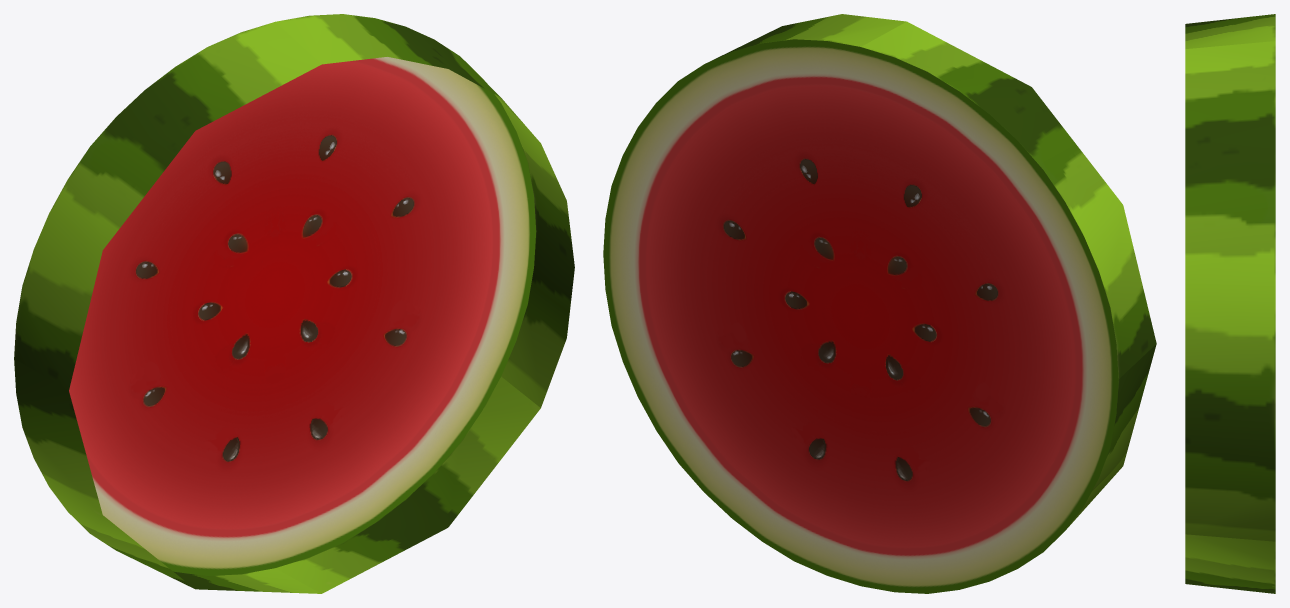
The model's file is Watermelon_Wheel.fbx.
3 views of the same model, side by side, from view 1: azimuth 30°, elevation 25°; view 2: azimuth 150°, elevation 25°; view 3: azimuth 270°, elevation 25° (orthographic). The views are drawn at different scales.
Parts seen in each view (by area): view 1: Watermelon_Wheel2; view 2: Watermelon_Wheel2; view 3: Watermelon_Wheel2.
Boxes of the visible parts, x1=… form: Watermelon_Wheel2: x1=14, y1=14, x2=574, y2=593; Watermelon_Wheel2: x1=603, y1=14, x2=1156, y2=593; Watermelon_Wheel2: x1=1185, y1=14, x2=1275, y2=593.
Size of the model in its own units: 520 by 520 by 80.66.
